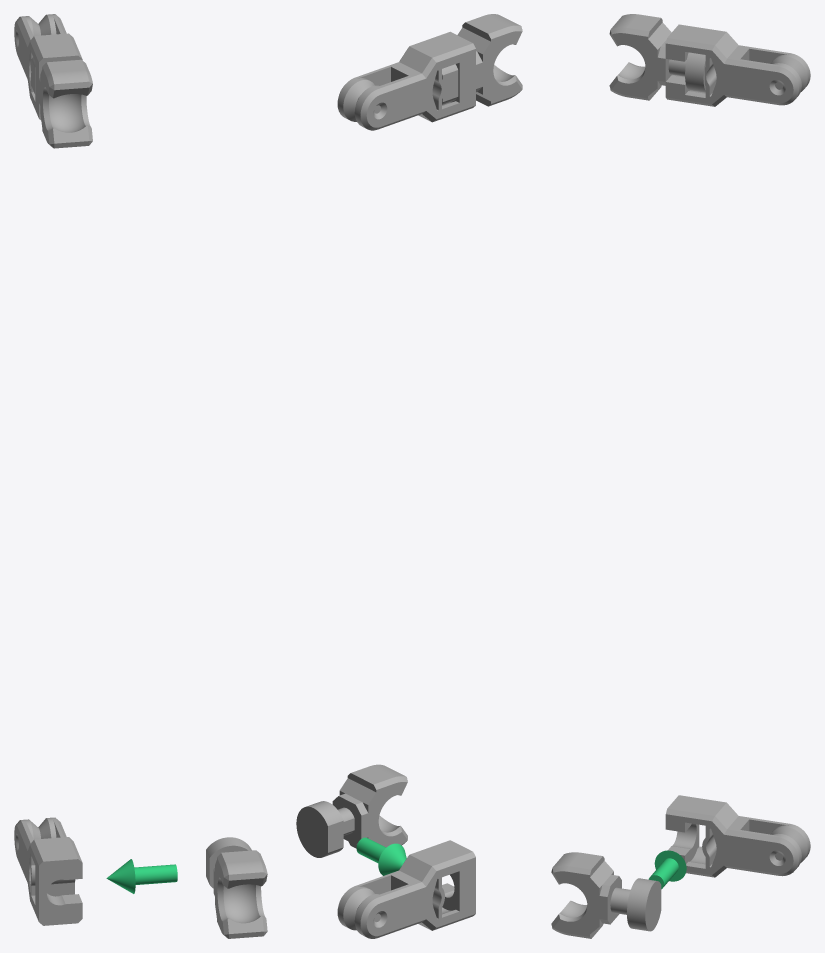
Rendered from upper_arm_a.glb.
3 views of the same model, side by side, from view 1: azimuth 30°, elevation 25°; view 2: azimuth 150°, elevation 25°; view 3: azimuth 270°, elevation 25° (orthographic). The views are drawn at different scales.
Visible parts, largest first — view 1: Body1.003, Body1.002, Body1.001, Body1, Arrow; view 2: Body1.003, Body1, Body1.002, Body1.001, Arrow; view 3: Body1.003, Body1, Body1.002, Body1.001, Arrow.
Part boxes in pixels (<box>): Body1.003: <box>14,817,82,925</box>; Body1.002: <box>206,837,267,938</box>; Body1.001: <box>31,57,92,148</box>; Body1: <box>14,14,82,120</box>; Arrow: <box>106,859,177,893</box>; Body1.003: <box>337,840,475,938</box>; Body1: <box>337,31,475,130</box>; Body1.002: <box>296,764,407,857</box>; Body1.001: <box>442,14,522,106</box>; Arrow: <box>356,837,406,875</box>; Body1.003: <box>665,795,810,877</box>; Body1: <box>665,24,810,106</box>; Body1.002: <box>551,852,661,938</box>; Body1.001: <box>609,14,705,100</box>; Arrow: <box>648,850,686,889</box>.
Size of the model in its own units: 27.96 by 109 by 30.5.
